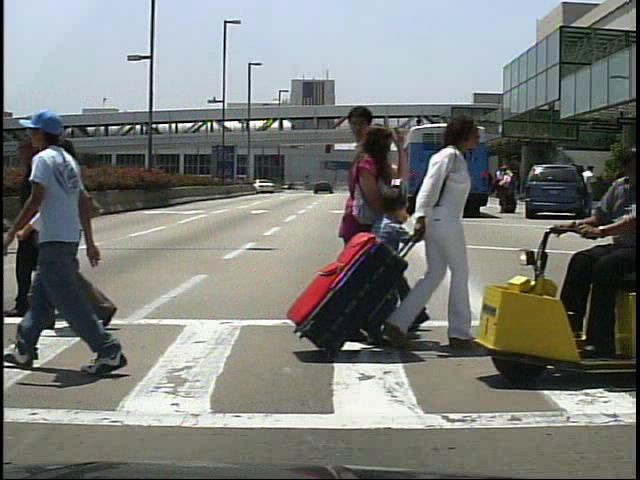person: (28, 105, 136, 388), (376, 110, 487, 361), (339, 101, 430, 350), (564, 159, 640, 360), (342, 123, 406, 355), (35, 135, 100, 329), (14, 130, 71, 324), (366, 183, 411, 318), (582, 164, 602, 219), (499, 165, 519, 214), (498, 166, 516, 219)
